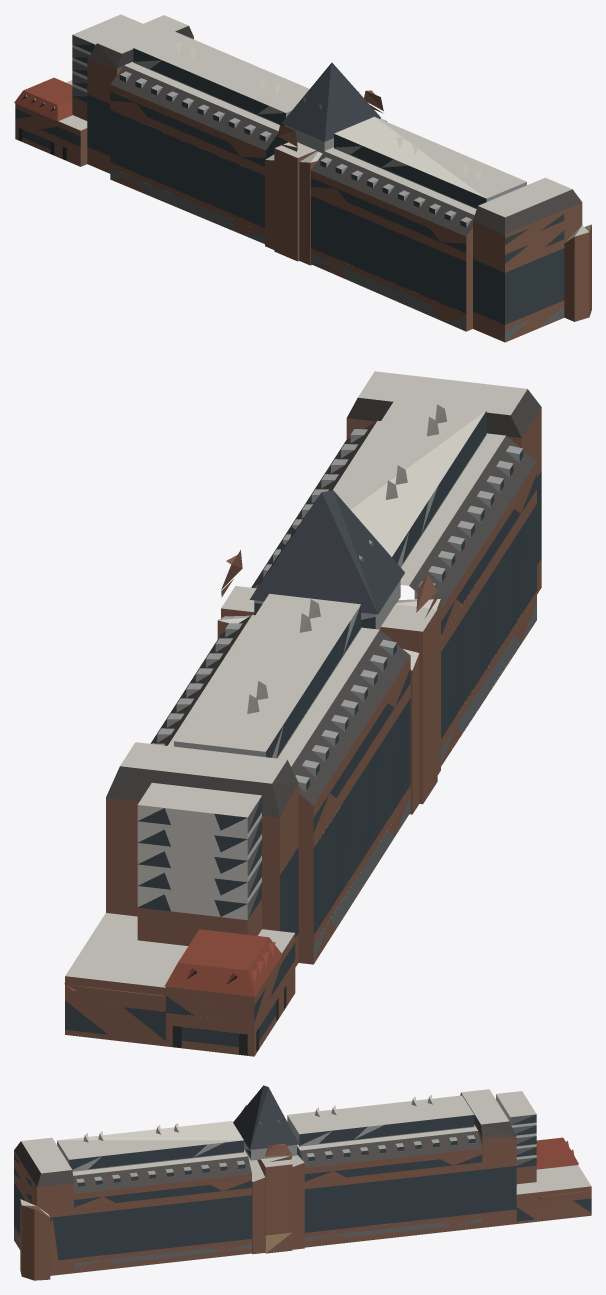
The model's file is graansilo-korthals-altes.lod2.glb.
3 views of the same model, one above another, from view 1: azimuth 30°, elevation 25°; view 2: azimuth 150°, elevation 25°; view 3: azimuth 270°, elevation 25° (orthographic). The views are drawn at different scales.
Visible parts, largest first — view 1: lod2; view 2: lod2; view 3: lod2.
Part boxes in pixels (x1,y1,x2,y2): lod2: (14, 14, 591, 342); lod2: (64, 371, 541, 1056); lod2: (14, 1085, 591, 1280).
Size of the model in its own units: 52.36 by 33.59 by 121.
